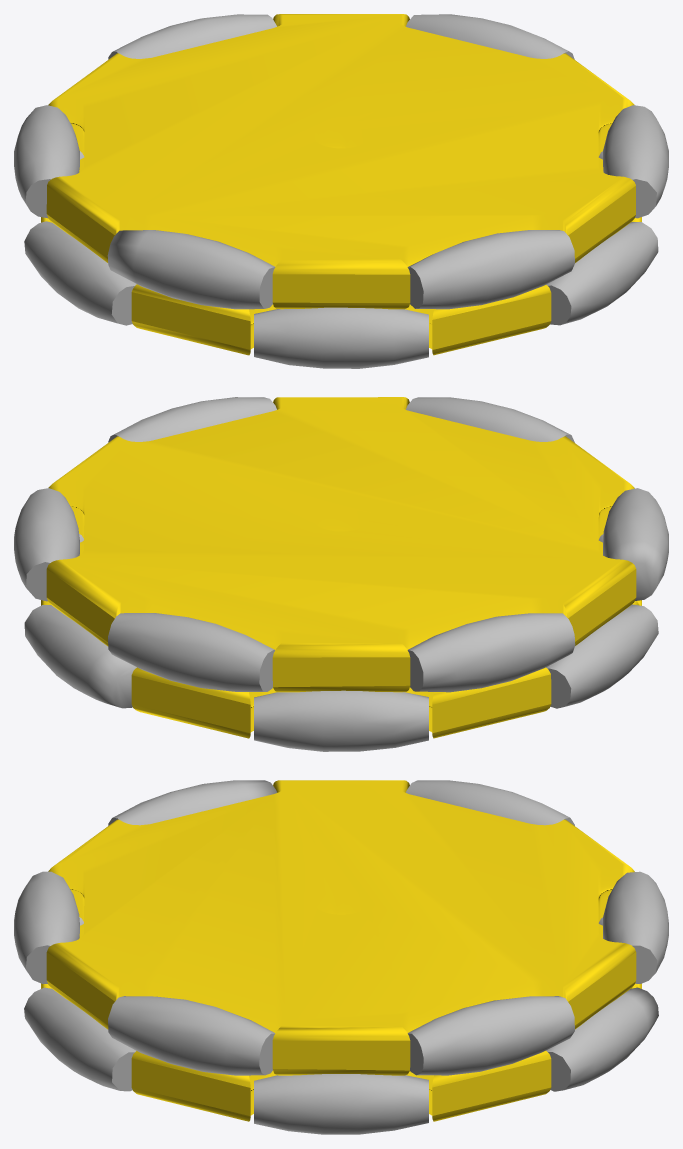
Rendered from SixInOmni.fbx.
3 renders of one model, top to bottom at view 1: azimuth 30°, elevation 25°; view 2: azimuth 150°, elevation 25°; view 3: azimuth 270°, elevation 25°, orthographic.
Parts seen in each view (by area): view 1: Part 7.001, Part 7, Part 4, Part 1.001, Part 2.001, Part 5.001, Part 3, Part 3.001, Part 6.001, Part 5, Part 4.001; view 2: Part 7.001, Part 7, Part 6, Part 6.001, Part 5, Part 5.001, Part 1, Part 1.001, Part 4.001, Part 2.001, Part 3.001; view 3: Part 7.001, Part 7, Part 2, Part 3.001, Part 4.001, Part 1, Part 3, Part 5, Part 2.001, Part 1.001, Part 6.001.
Part boxes in pixels (x1,y1,x2,y2): Part 7.001: (46,14,635,309); Part 7: (41,158,641,355); Part 4: (254,307,428,368); Part 1.001: (107,230,275,309); Part 2.001: (407,230,574,309); Part 5.001: (24,221,136,325); Part 3: (546,222,658,325); Part 3.001: (603,105,668,218); Part 6.001: (14,105,79,218); Part 5: (108,14,276,59); Part 4.001: (406,14,574,59); Part 7.001: (46,397,636,692); Part 7: (41,540,641,738); Part 6: (254,690,428,751); Part 6.001: (407,613,575,692); Part 5: (108,613,274,691); Part 5.001: (546,604,658,708); Part 1: (24,605,136,708); Part 1.001: (603,488,668,600); Part 4.001: (14,488,79,601); Part 2.001: (406,397,574,442); Part 3.001: (108,397,276,442); Part 7.001: (46,780,636,1075); Part 7: (41,924,641,1121); Part 2: (254,1074,428,1134); Part 3.001: (108,996,275,1075); Part 4.001: (407,996,574,1075); Part 1: (546,987,658,1091); Part 3: (24,987,135,1091); Part 5: (603,871,668,983); Part 2.001: (14,871,79,983); Part 1.001: (108,780,276,825); Part 6.001: (406,780,574,825).
Size of the model in its own units: 15.22 by 2.81 by 15.22.
